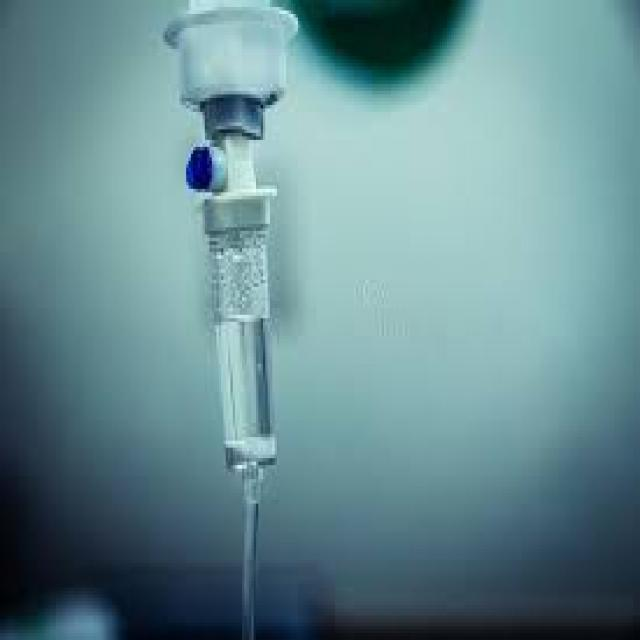iv_fluids: (153, 23, 313, 559)
